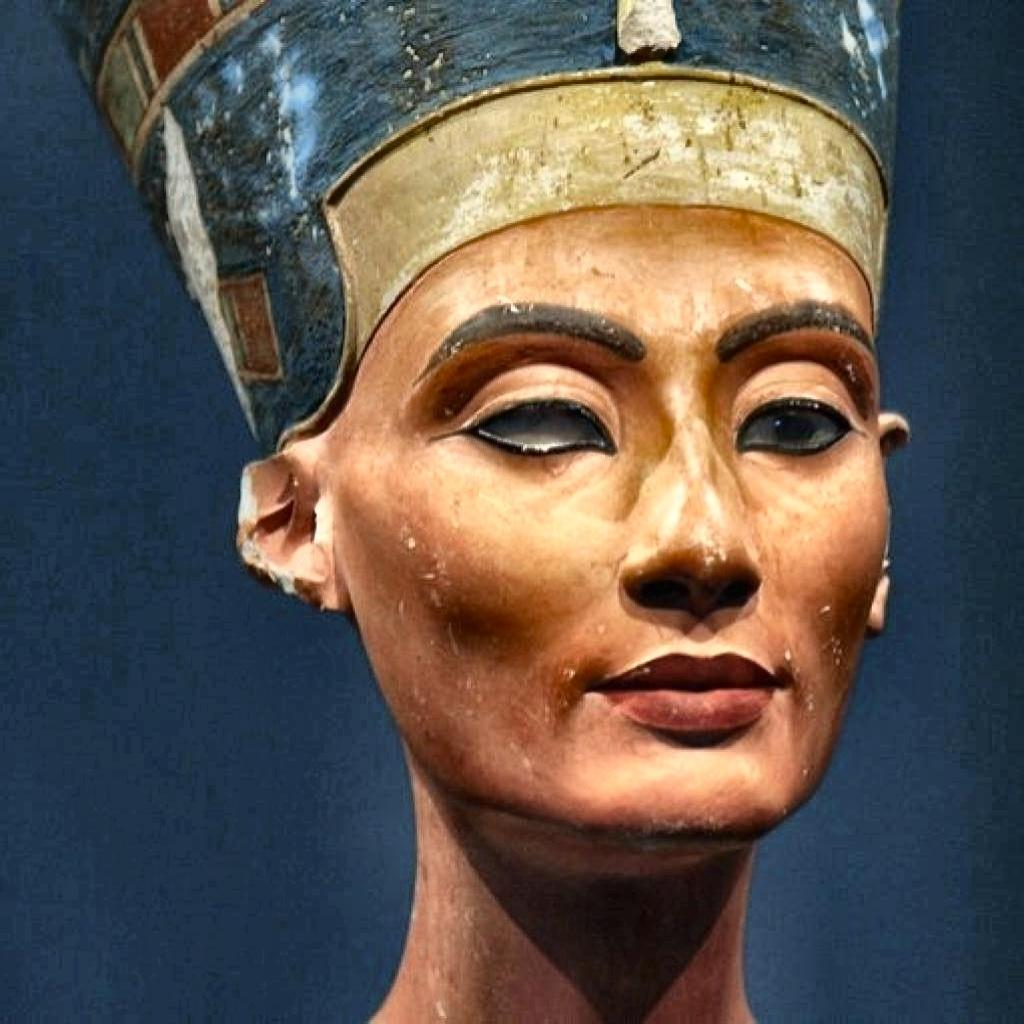Nefertiti: (58, 0, 907, 1023)
